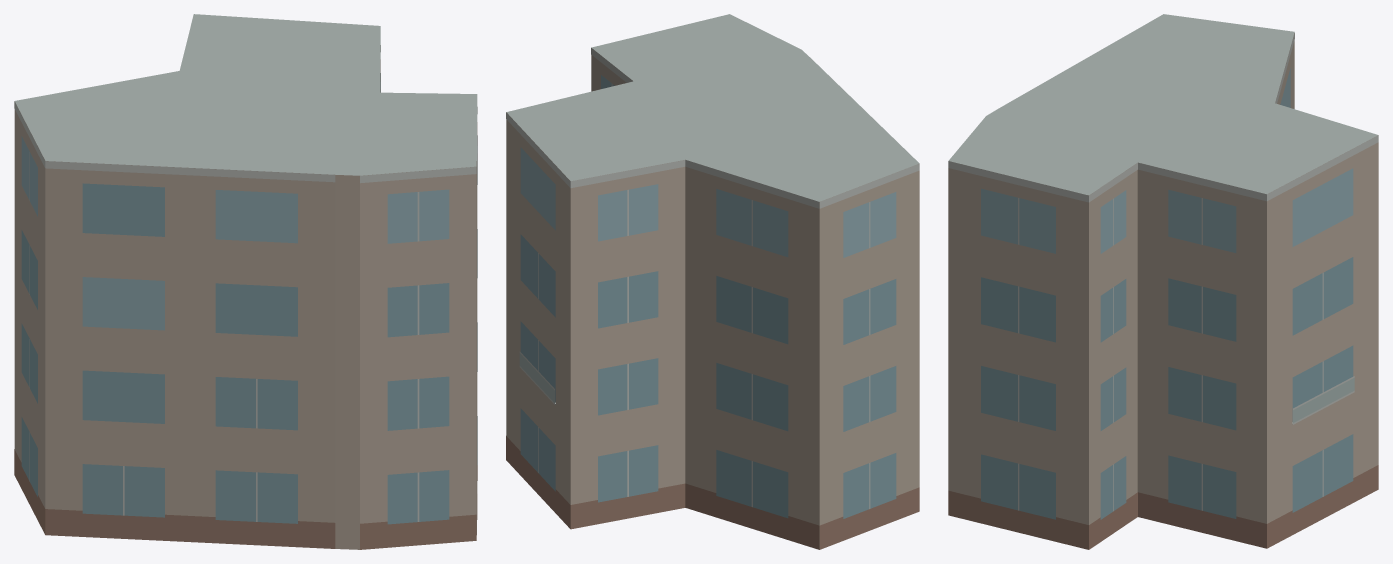
File: survey-upis-33029261.glb
The picture shows the model from 3 angles, left to right: view 1: azimuth 30°, elevation 25°; view 2: azimuth 150°, elevation 25°; view 3: azimuth 270°, elevation 25°; orthographic projection. The views are drawn at different scales.
Parts seen in each view (by area): view 1: survey-upis-33029261.tmp; view 2: survey-upis-33029261.tmp; view 3: survey-upis-33029261.tmp.
Part boxes in pixels (box(x1,y1,x2,y2)): survey-upis-33029261.tmp: box(14, 14, 477, 549); survey-upis-33029261.tmp: box(506, 14, 919, 549); survey-upis-33029261.tmp: box(948, 14, 1378, 549).
Bounding box in the file's own units: 13.41 × 12.2 × 13.43.
